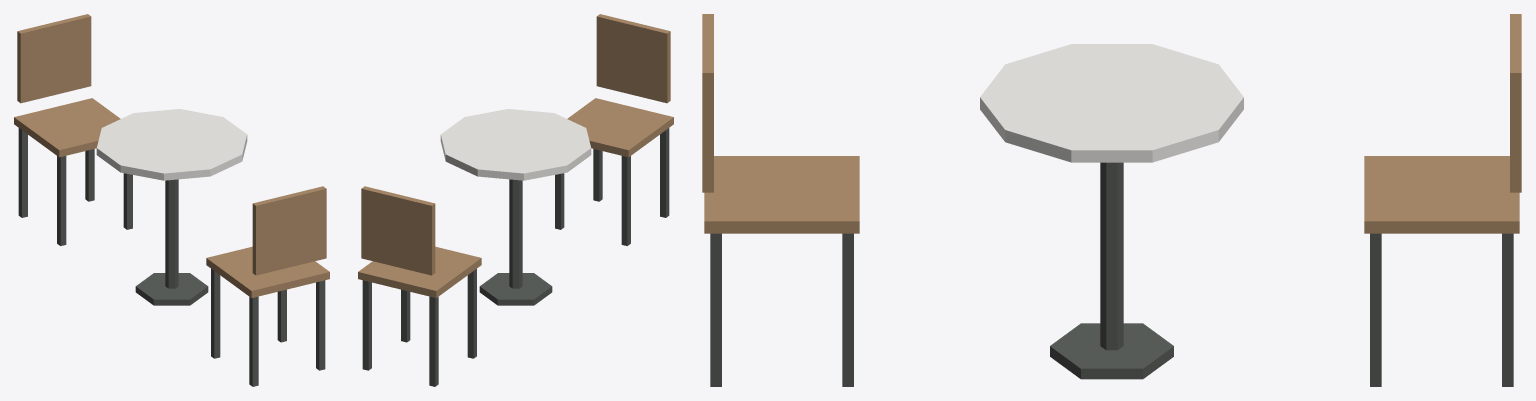
Rendered from bistro_set.glb.
3 renders of one model, left to right at view 1: azimuth 30°, elevation 25°; view 2: azimuth 150°, elevation 25°; view 3: azimuth 270°, elevation 25°, orthographic. The views are drawn at different scales.
Parts seen in each view (by area): view 1: bistro_set; view 2: bistro_set; view 3: bistro_set.
Part boxes in pixels (<box>): bistro_set: <box>14,14,329,386</box>; bistro_set: <box>358,14,673,386</box>; bistro_set: <box>702,14,1521,386</box>.
Size of the model in its own units: 0.6467 by 0.89 by 2.11.
